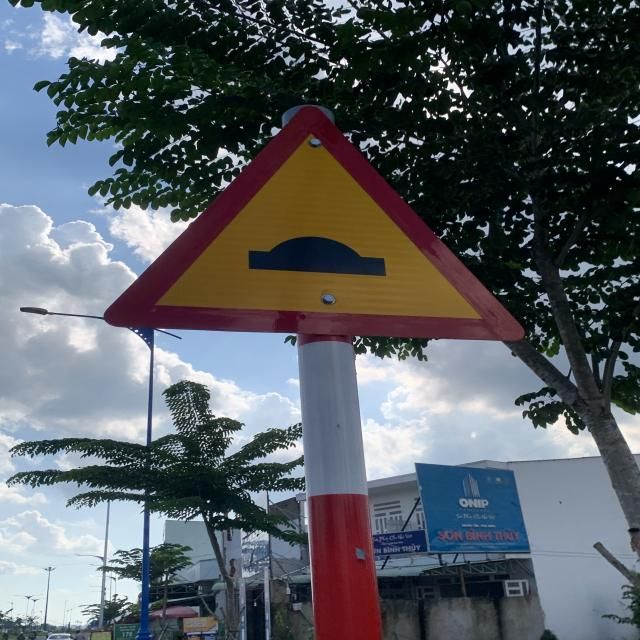Duong_Cong_Ben_Phai: (102, 110, 520, 338)
